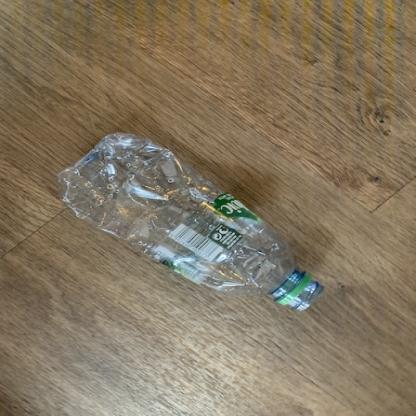trash: (55, 134, 325, 314)
